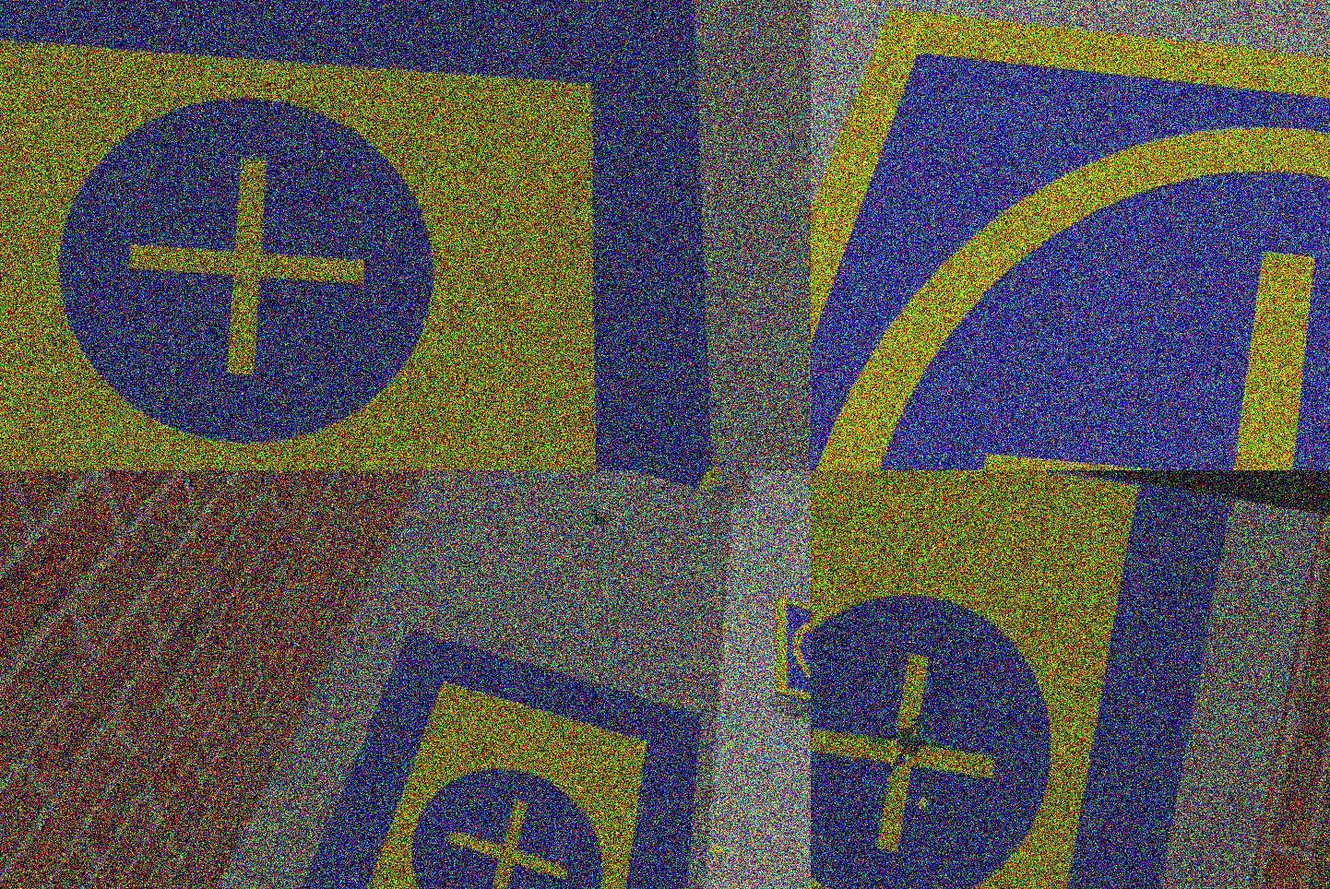large_base: (1, 1, 812, 471), (812, 471, 1229, 889), (220, 609, 754, 889)
small_base: (812, 1, 1330, 471), (762, 590, 812, 735)
